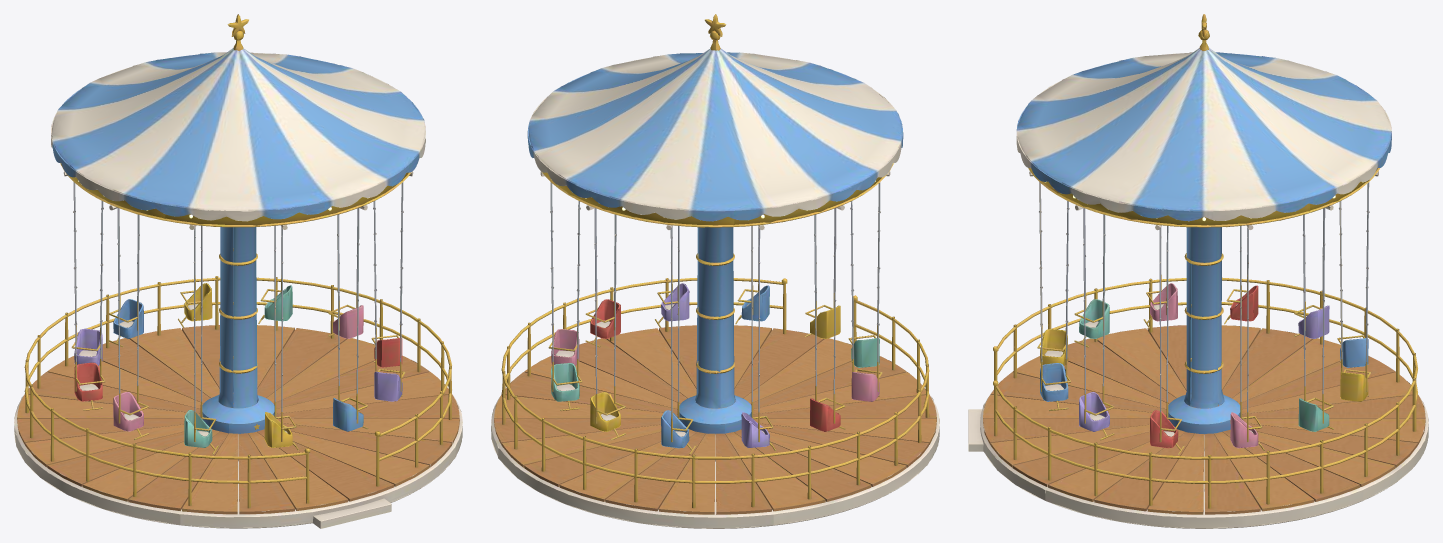
The model's file is swing_ride.glb.
3 renders of one model, left to right at view 1: azimuth 30°, elevation 25°; view 2: azimuth 150°, elevation 25°; view 3: azimuth 270°, elevation 25°, orthographic.
Visible parts, largest first — view 1: swing-ride_body, swing-ride_spin; view 2: swing-ride_body, swing-ride_spin; view 3: swing-ride_body, swing-ride_spin.
Boxes of the visible parts, x1=… form: swing-ride_body: x1=14, y1=227, x2=462, y2=528; swing-ride_spin: x1=51, y1=14, x2=425, y2=454; swing-ride_body: x1=491, y1=227, x2=939, y2=528; swing-ride_spin: x1=527, y1=14, x2=903, y2=454; swing-ride_body: x1=968, y1=227, x2=1428, y2=528; swing-ride_spin: x1=1016, y1=14, x2=1391, y2=454.
Bounding box in the file's own units: 7.54 × 7.8 × 7.73.
3 materials, 2 textured.
